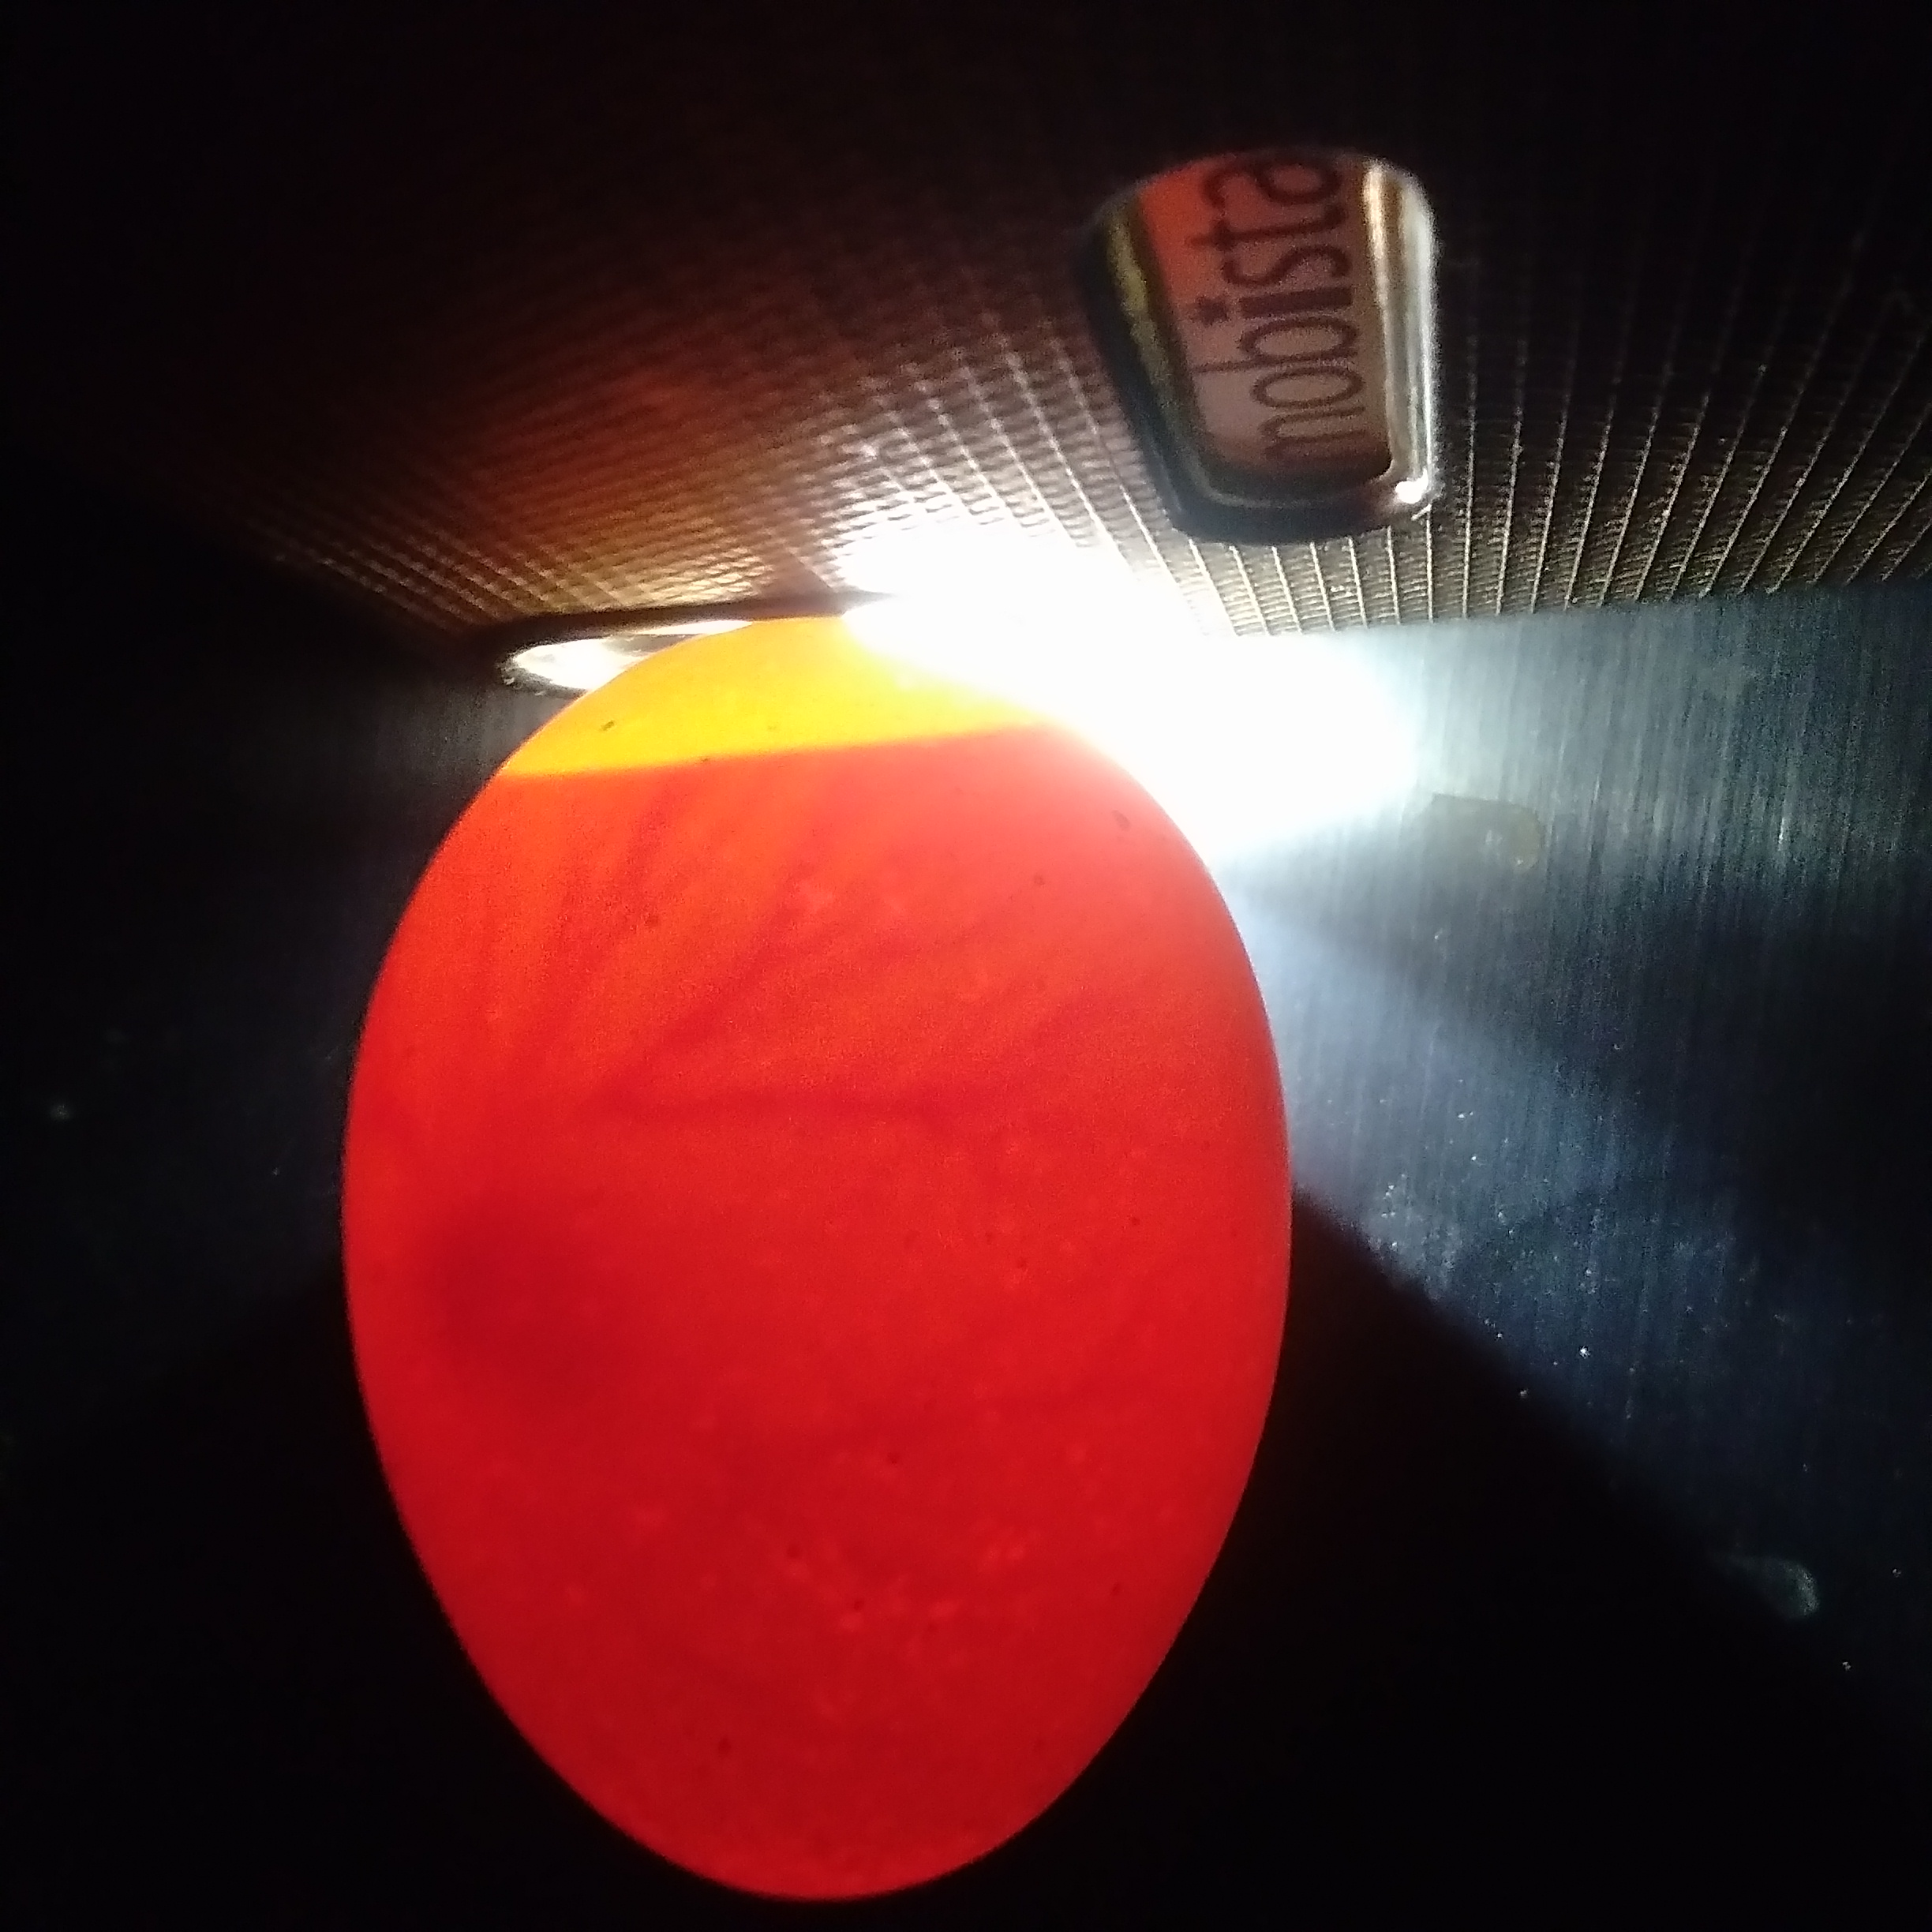bloodcell: (476, 828, 1120, 1157), (678, 1192, 1173, 1596)
embryo: (426, 1184, 582, 1401)
